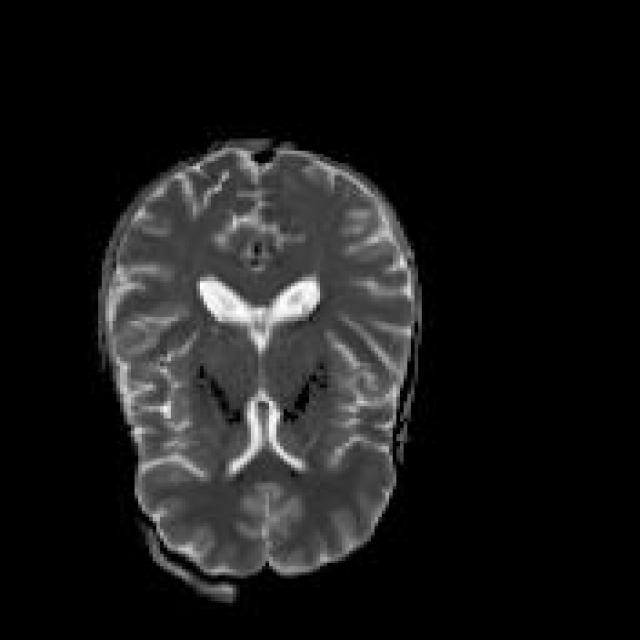CONTROL: (94, 135, 422, 600)
